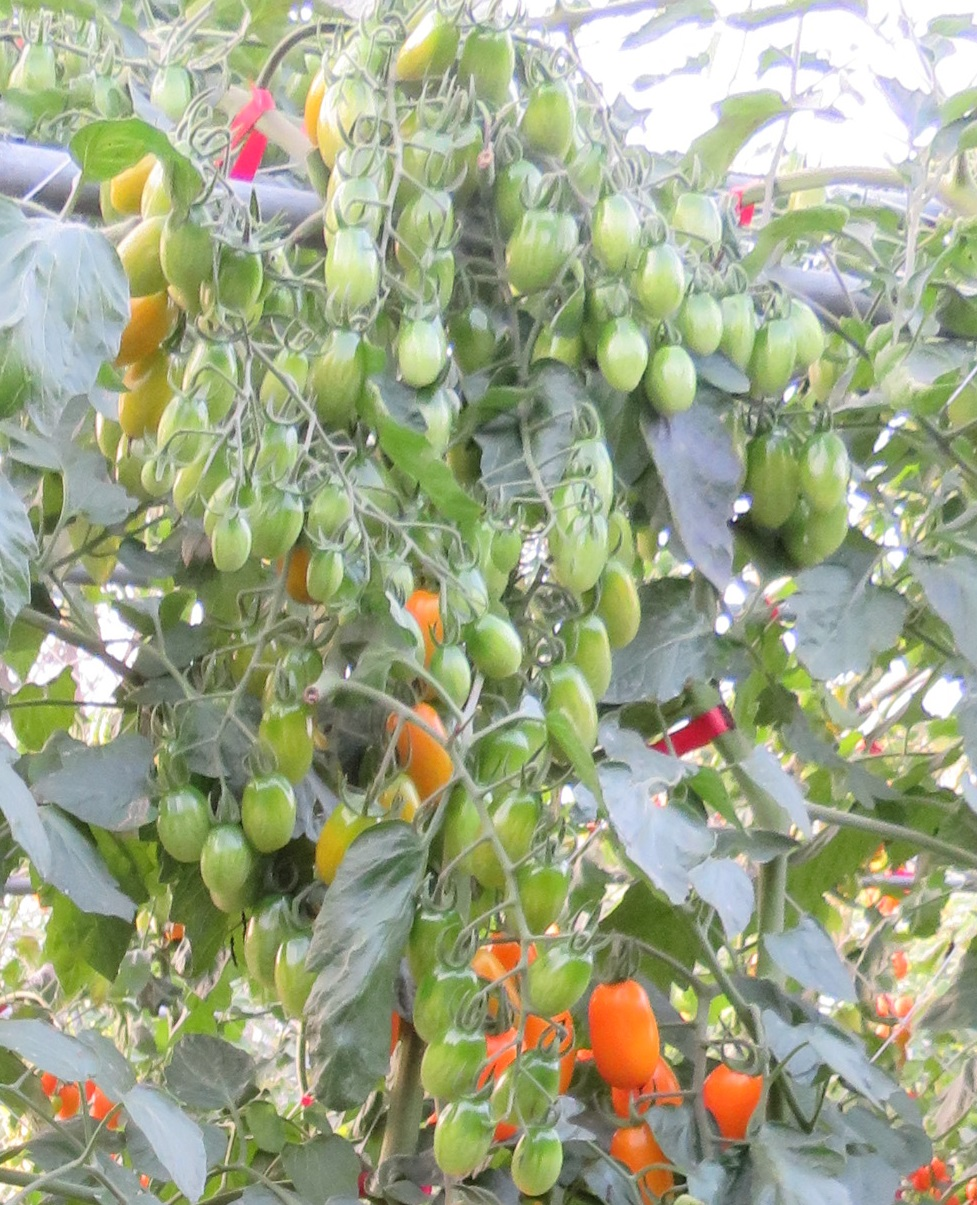green: (512, 934, 595, 1017), (475, 788, 548, 881), (549, 503, 618, 596), (744, 429, 800, 536), (492, 1044, 565, 1126), (389, 9, 462, 89), (160, 197, 213, 307), (323, 219, 382, 313), (418, 1023, 482, 1107), (412, 958, 479, 1038), (208, 242, 267, 329), (310, 326, 364, 421), (518, 77, 573, 168), (432, 1096, 489, 1182), (250, 483, 304, 569), (244, 892, 293, 986), (595, 318, 654, 396), (240, 774, 298, 852), (509, 217, 565, 297), (798, 433, 853, 514), (542, 656, 597, 737), (253, 707, 317, 773), (510, 1118, 563, 1197), (314, 78, 378, 143), (597, 563, 647, 646), (260, 338, 308, 424), (463, 26, 510, 111), (397, 189, 467, 246), (489, 156, 545, 227), (513, 863, 569, 933), (590, 192, 639, 271), (554, 611, 615, 674), (200, 827, 254, 898), (648, 343, 699, 418), (562, 432, 615, 503), (633, 246, 684, 319), (788, 514, 857, 567), (154, 792, 207, 858), (160, 391, 212, 457), (400, 317, 449, 387), (673, 197, 723, 264), (205, 504, 249, 577), (472, 623, 525, 682), (433, 648, 479, 714), (280, 934, 312, 1028), (680, 292, 725, 358), (192, 338, 242, 397), (247, 422, 304, 473), (407, 239, 455, 298), (760, 321, 795, 399), (722, 291, 757, 368), (134, 449, 182, 501), (794, 299, 828, 367), (492, 528, 527, 577)
orange: (585, 979, 659, 1089), (704, 1068, 759, 1138)
